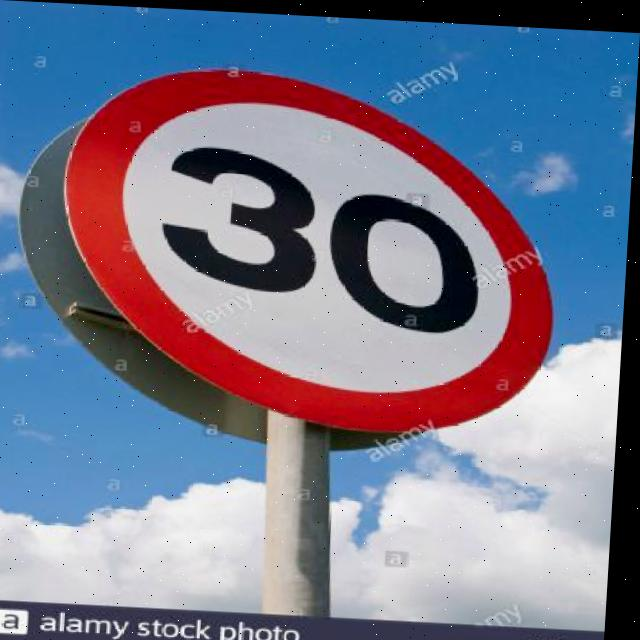Speed limit 30: (48, 55, 572, 444)
